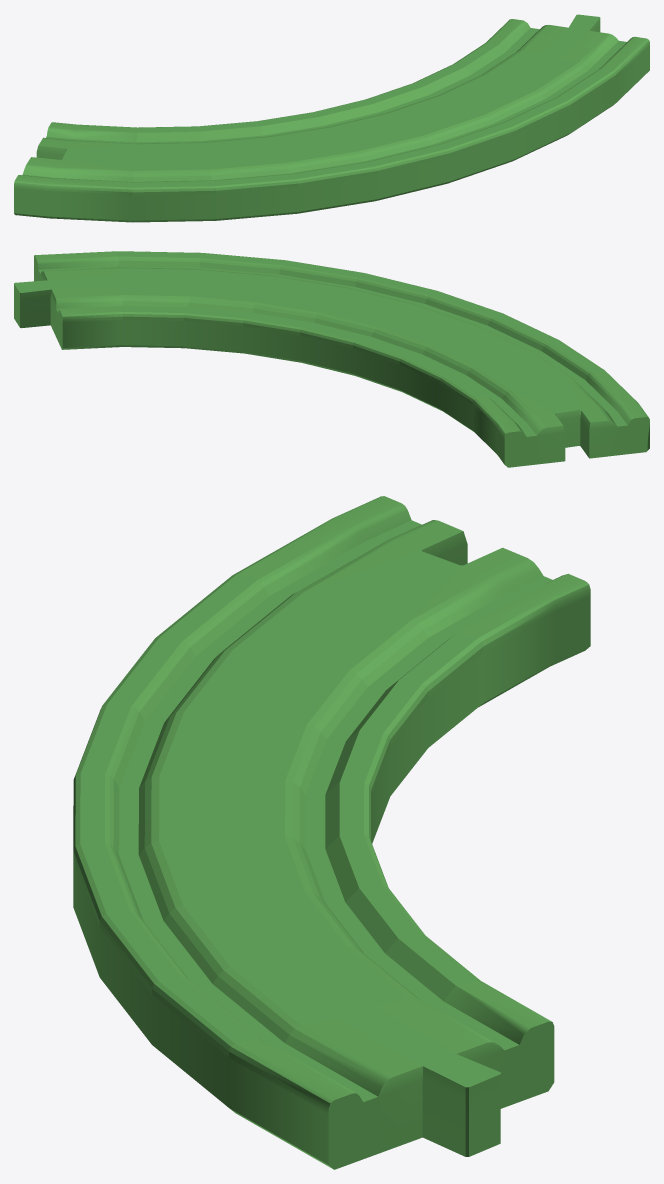
File: Track_bent.fbx
The picture shows the model from 3 angles, top to bottom: view 1: azimuth 30°, elevation 25°; view 2: azimuth 150°, elevation 25°; view 3: azimuth 270°, elevation 25°; orthographic projection. The views are drawn at different scales.
Visible parts, largest first — view 1: Track_Bent; view 2: Track_Bent; view 3: Track_Bent.
Part boxes in pixels (x1,y1,x2,y2): Track_Bent: [14, 14, 649, 222]; Track_Bent: [14, 251, 649, 467]; Track_Bent: [73, 496, 590, 1169].
Bounding box in the file's own units: 0.1921 × 0.0103 × 0.069.
